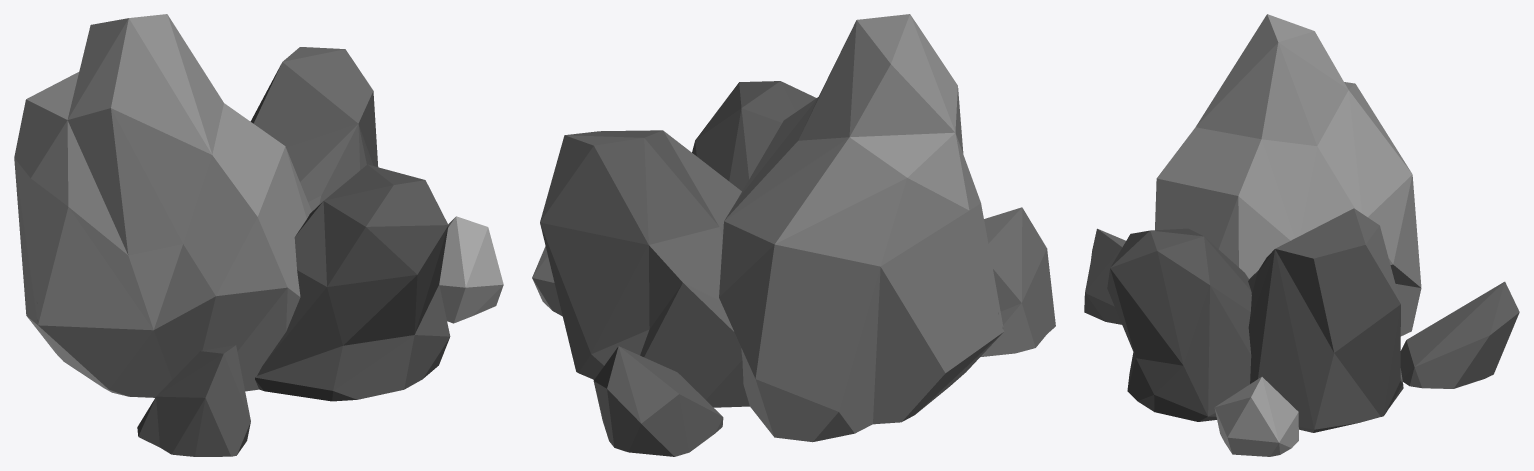
Rendered from kameny.fbx.
The picture shows the model from 3 angles, left to right: view 1: azimuth 30°, elevation 25°; view 2: azimuth 150°, elevation 25°; view 3: azimuth 270°, elevation 25°; orthographic projection. The views are drawn at different scales.
Visible parts, largest first — view 1: Icosphere; view 2: Icosphere; view 3: Icosphere.
Boxes of the visible parts, x1,y1,x2,y2 form: Icosphere: (14,14,503,456); Icosphere: (532,14,1055,456); Icosphere: (1084,14,1519,456).
Bounding box in the file's own units: 39 × 29.63 × 39.11.
1 material, 1 textured.
